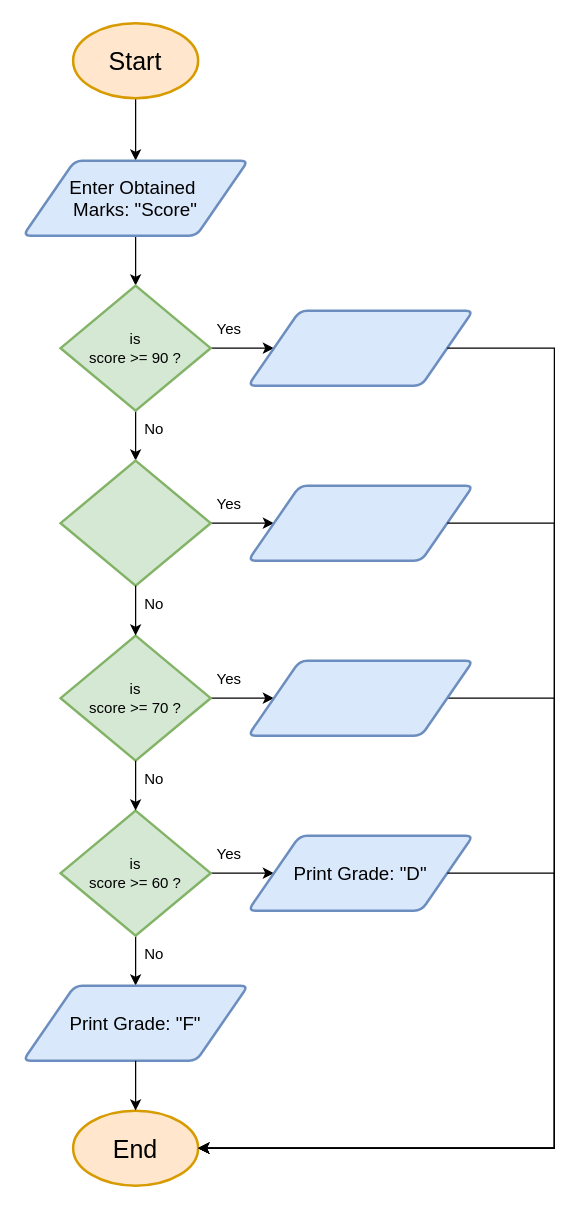
This 586x1208 diagram has some shape labels left out. Each missing label, with the box of its shape:
is score >= 80 ?: (59, 459, 211, 586)
Print Grade: "A": (246, 309, 474, 386)
Print Grade: "B": (246, 484, 474, 561)
Print Grade: "C": (246, 659, 474, 736)
